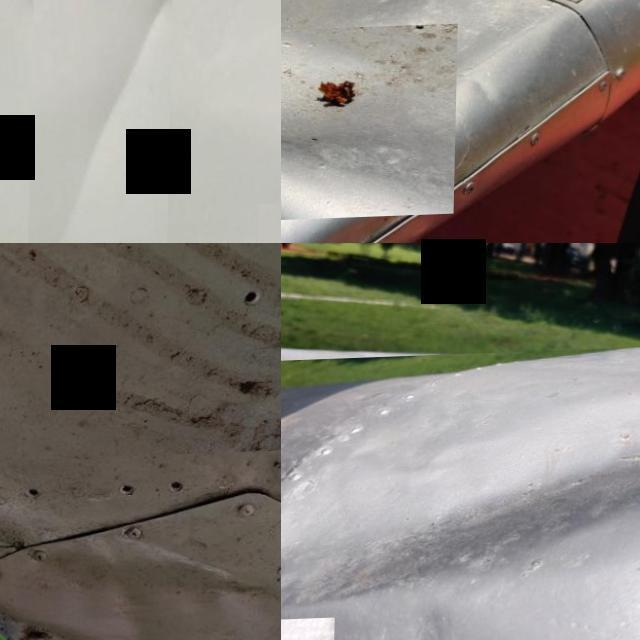Dent: (281, 344, 640, 640), (0, 454, 281, 640), (281, 26, 458, 224), (44, 0, 172, 243), (299, 575, 442, 640)
